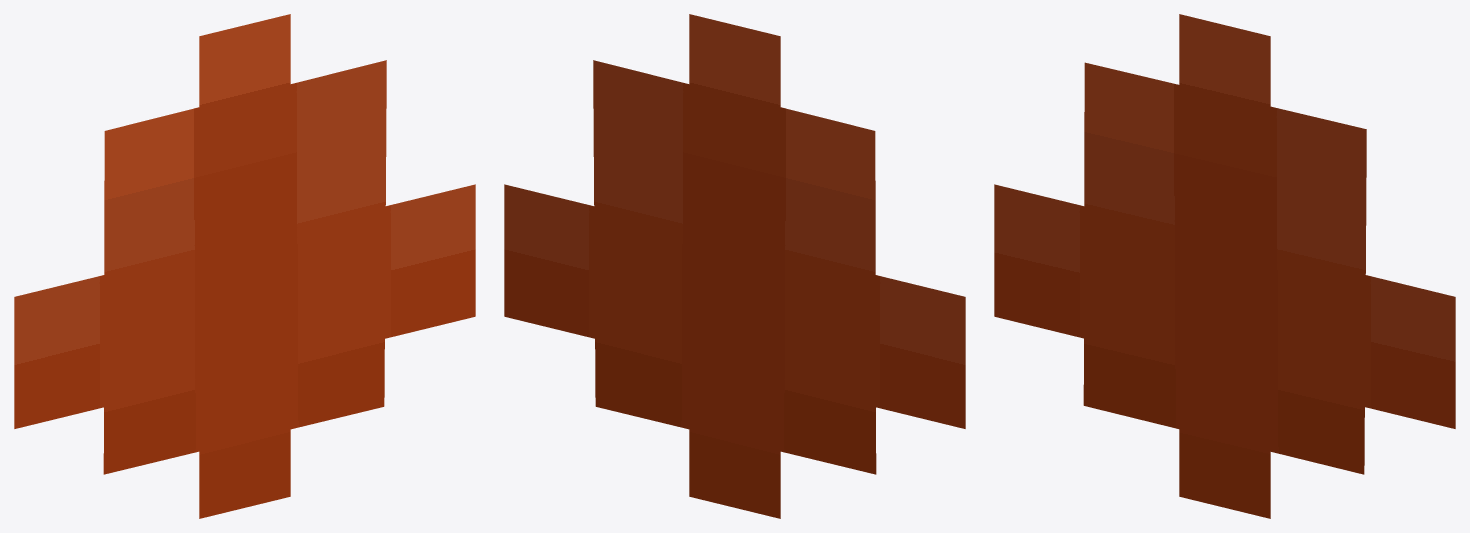
File: Feuille3.glb
3 views of the same model, side by side, from view 1: azimuth 30°, elevation 25°; view 2: azimuth 150°, elevation 25°; view 3: azimuth 330°, elevation 25° (orthographic).
Parts seen in each view (by area): view 1: Plane.027; view 2: Plane.027; view 3: Plane.027.
Part boxes in pixels (x1,y1,x2,y2): Plane.027: (14,14,475,518); Plane.027: (504,14,965,518); Plane.027: (994,14,1455,518).
Bounding box in the file's own units: 0.2114 × 0.2114 × 9.24e-09.
1 material, 1 textured.
